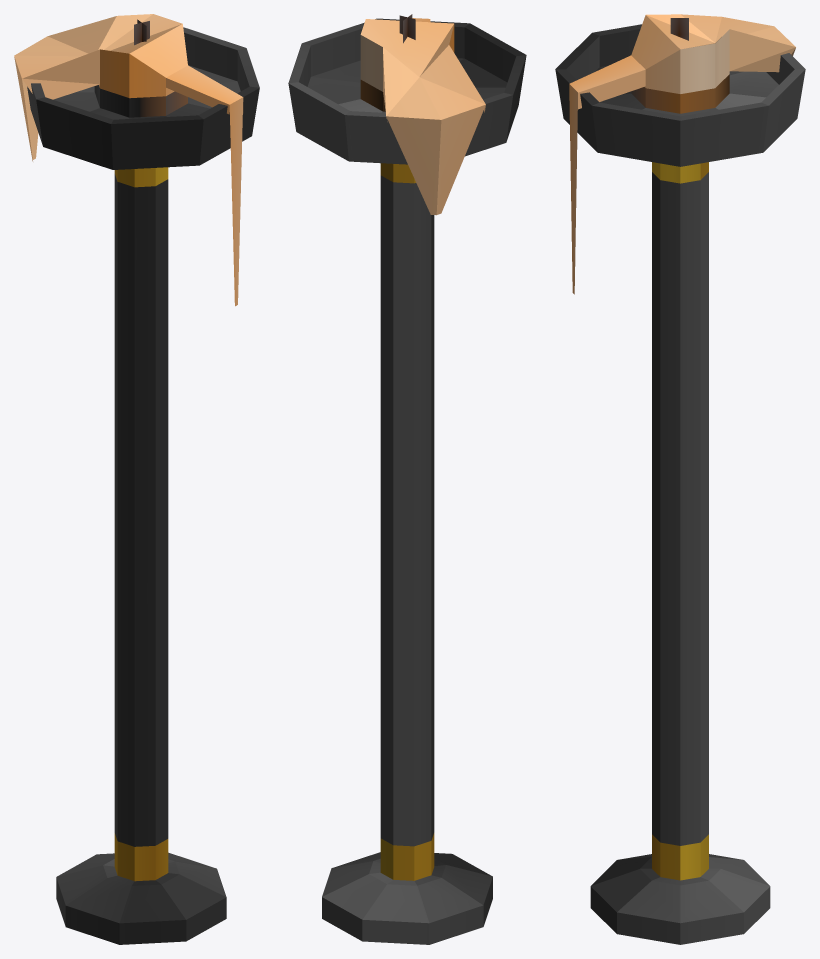
Rendered from spent_light_997x11.obj.
3 renders of one model, left to right at view 1: azimuth 30°, elevation 25°; view 2: azimuth 150°, elevation 25°; view 3: azimuth 270°, elevation 25°, orthographic.
Visible parts, largest first — view 1: spent_light_997x11; view 2: spent_light_997x11; view 3: spent_light_997x11.
Boxes of the visible parts, left/top/right/bottom form: spent_light_997x11: left=14, top=14, right=259, bottom=944; spent_light_997x11: left=288, top=14, right=526, bottom=944; spent_light_997x11: left=555, top=14, right=805, bottom=944.
Bounding box in the file's own units: 0.3725 × 1.5 × 0.3821.
